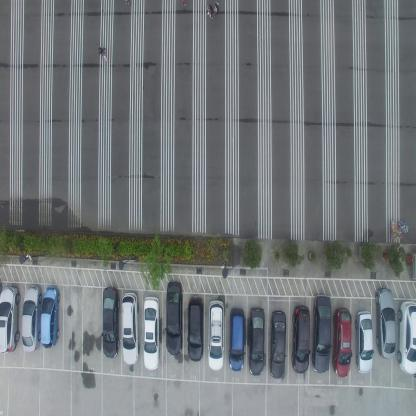car: (310, 293, 332, 375), (375, 286, 396, 360), (0, 285, 21, 356), (332, 306, 352, 378), (398, 298, 416, 376), (22, 284, 42, 353), (121, 292, 140, 364), (165, 281, 183, 356), (40, 284, 61, 348), (102, 285, 120, 359), (143, 296, 160, 371), (292, 305, 310, 374), (355, 309, 373, 375), (208, 298, 224, 372), (269, 310, 286, 379), (187, 294, 204, 362), (249, 306, 265, 376), (229, 306, 244, 372)
